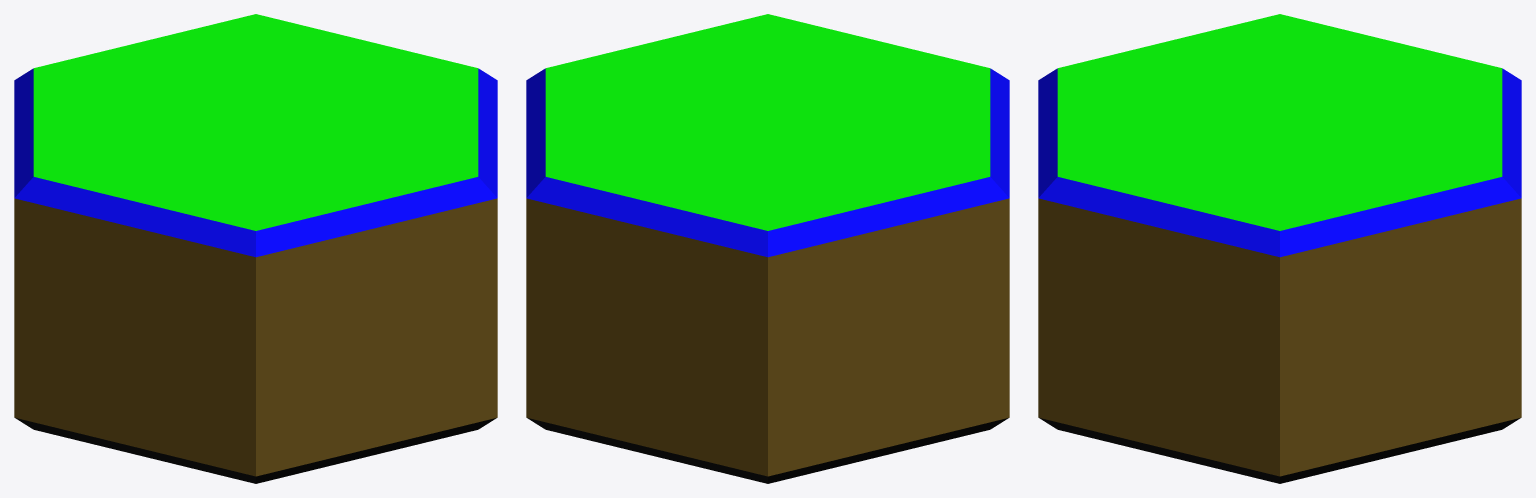
Rendered from Hex(h_50).fbx.
The picture shows the model from 3 angles, left to right: view 1: azimuth 30°, elevation 25°; view 2: azimuth 150°, elevation 25°; view 3: azimuth 270°, elevation 25°; orthographic projection.
Visible parts, largest first — view 1: Hex; view 2: Hex; view 3: Hex.
Boxes of the visible parts, x1,y1,x2,y2 form: Hex: [14, 14, 497, 483]; Hex: [526, 14, 1009, 483]; Hex: [1038, 14, 1521, 483].
Bounding box in the file's own units: 100 × 50 × 86.6.
